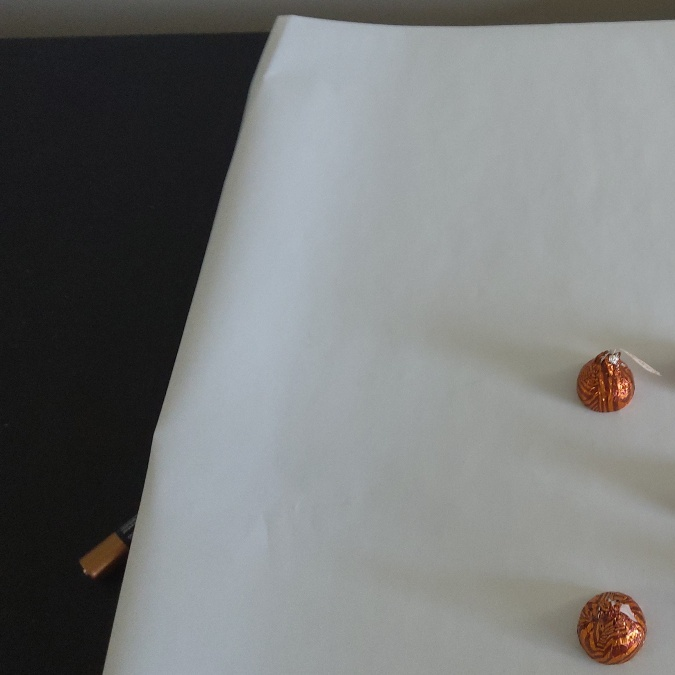chocolate_gold: (580, 594, 643, 662), (579, 351, 635, 411)
